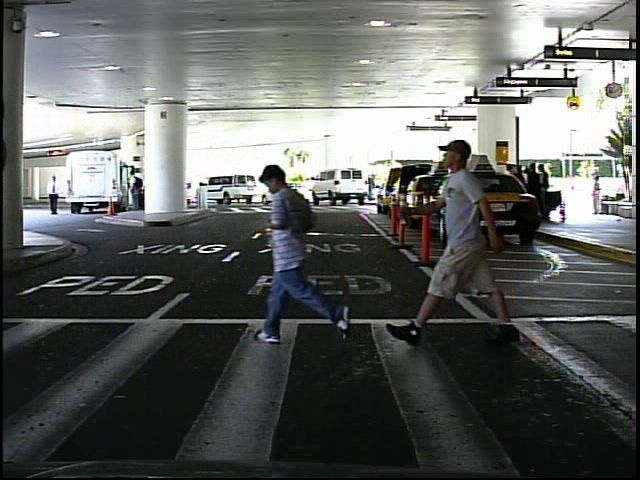person: (400, 132, 528, 357), (263, 153, 366, 354), (46, 171, 65, 217), (588, 172, 607, 218), (365, 172, 380, 202)
